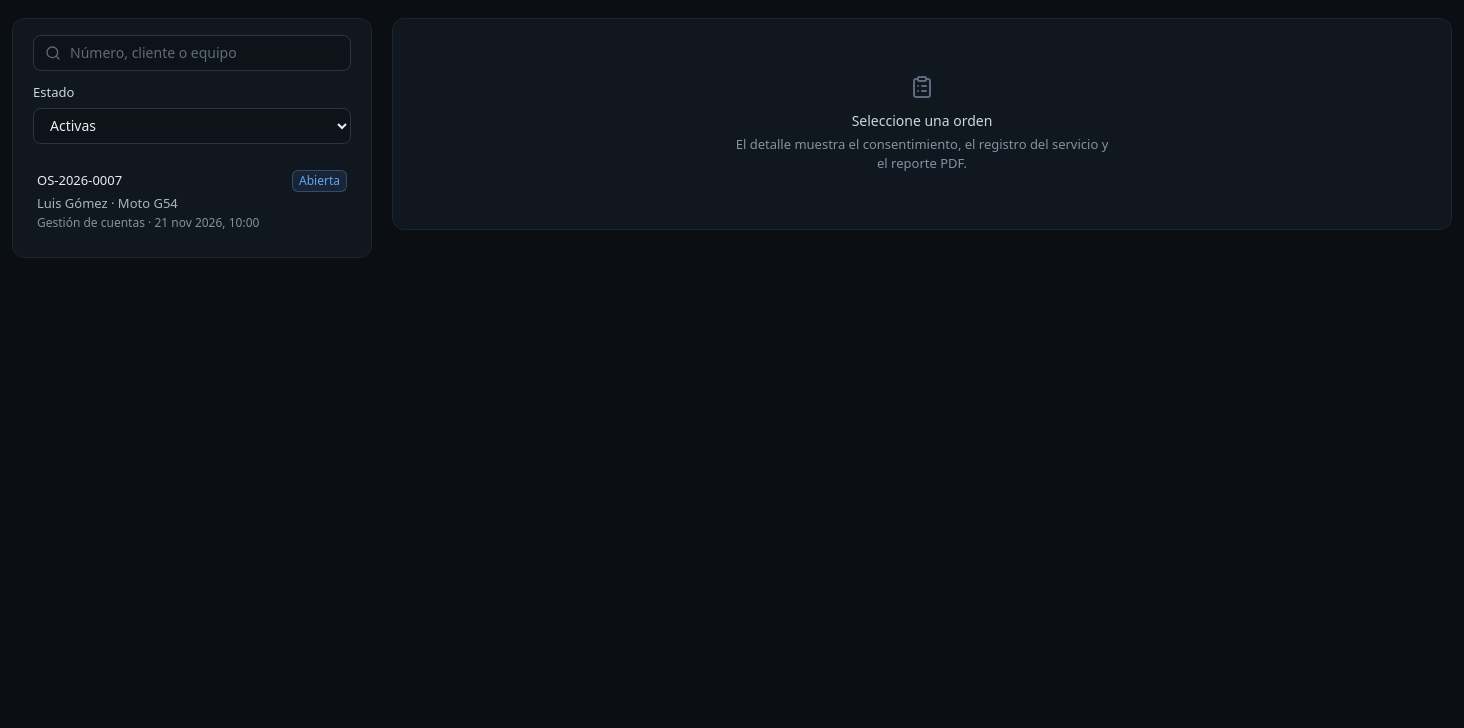
Test case: service orders › records consent only with a name and how ownership was checked
Click the button "OS-2026-0007" at (80, 180), box [25,160,359,240]
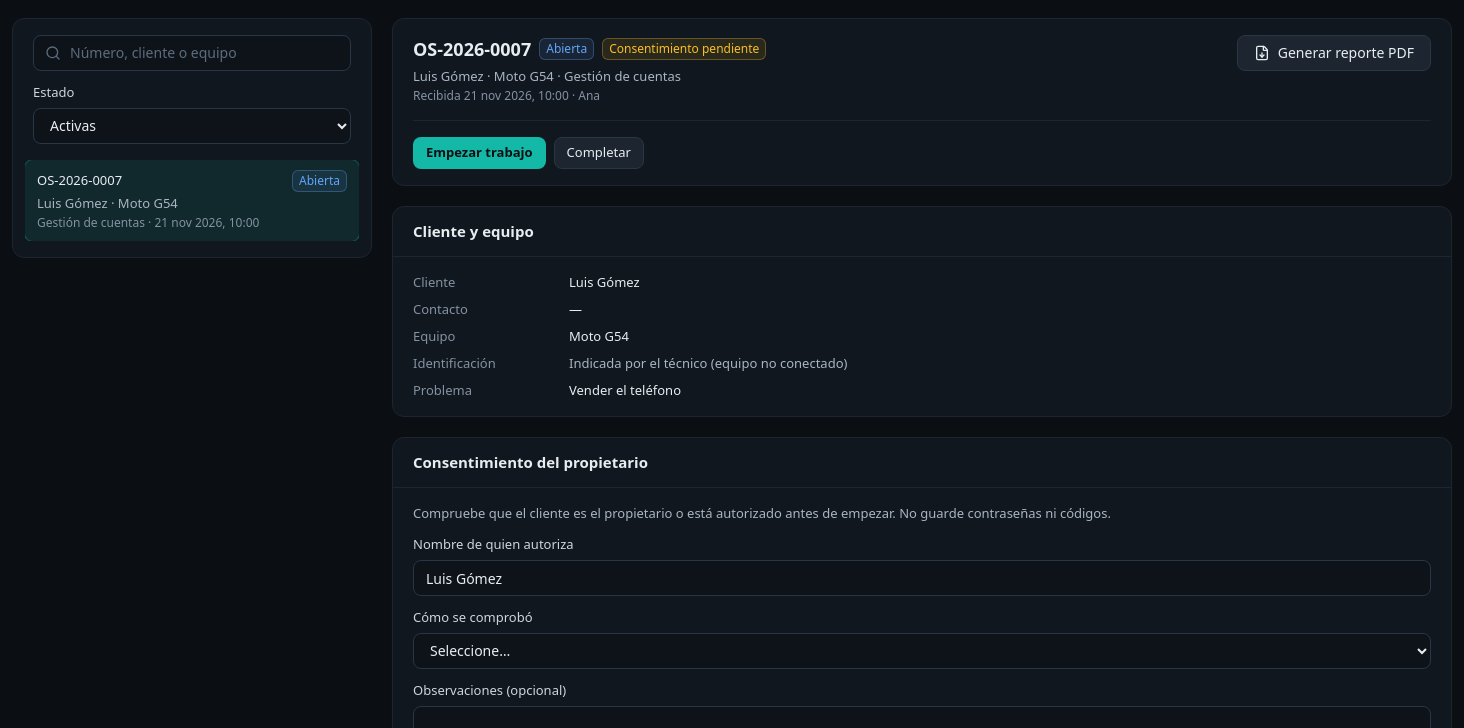
Check: the heading "OS-2026-0007" is shown, box [413,35,531,63]
Select "Propietario presente con identificación" in the dropdown labelled "Cómo se comprobó" at (922, 651), box [413,633,1431,669]
(page scrolled)
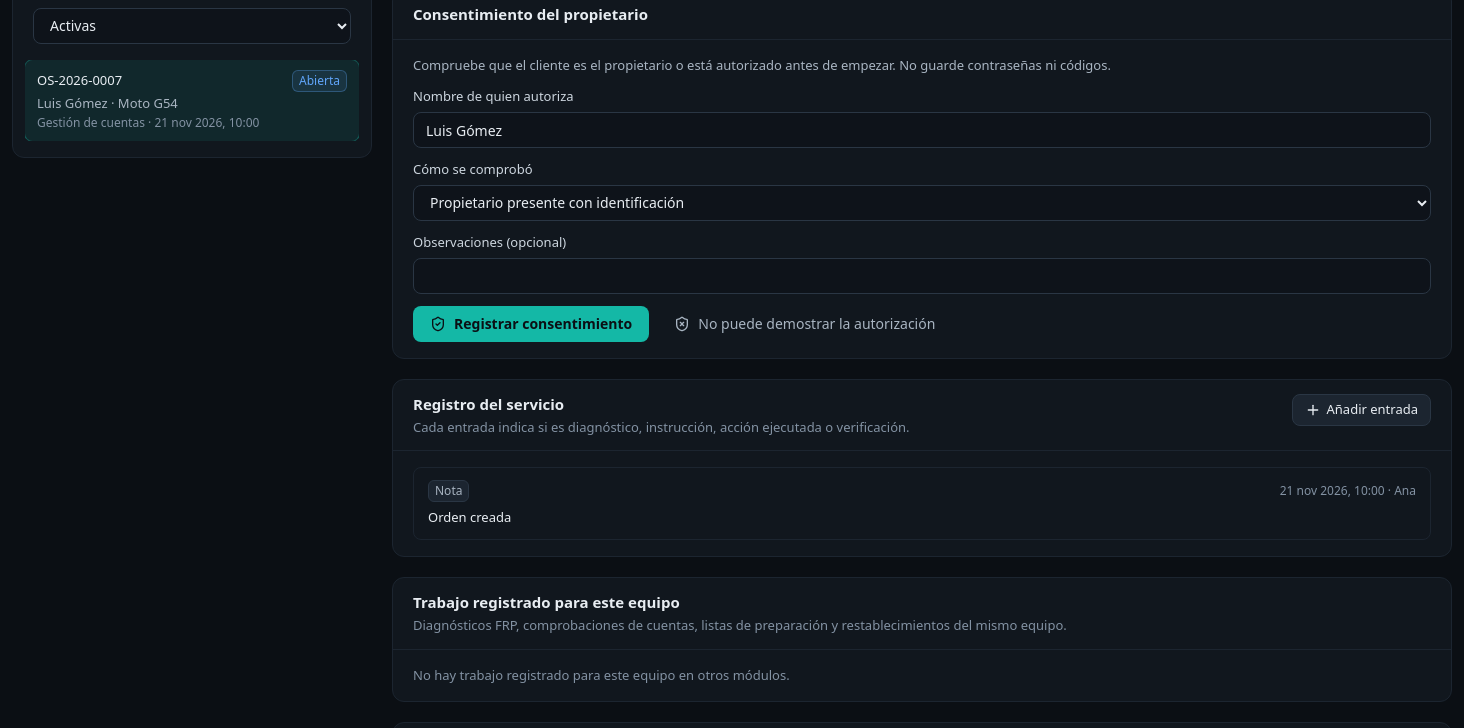
Check: the button "Registrar consentimiento" is enabled
Click the button "Registrar consentimiento" at (531, 324), box [413,306,649,342]
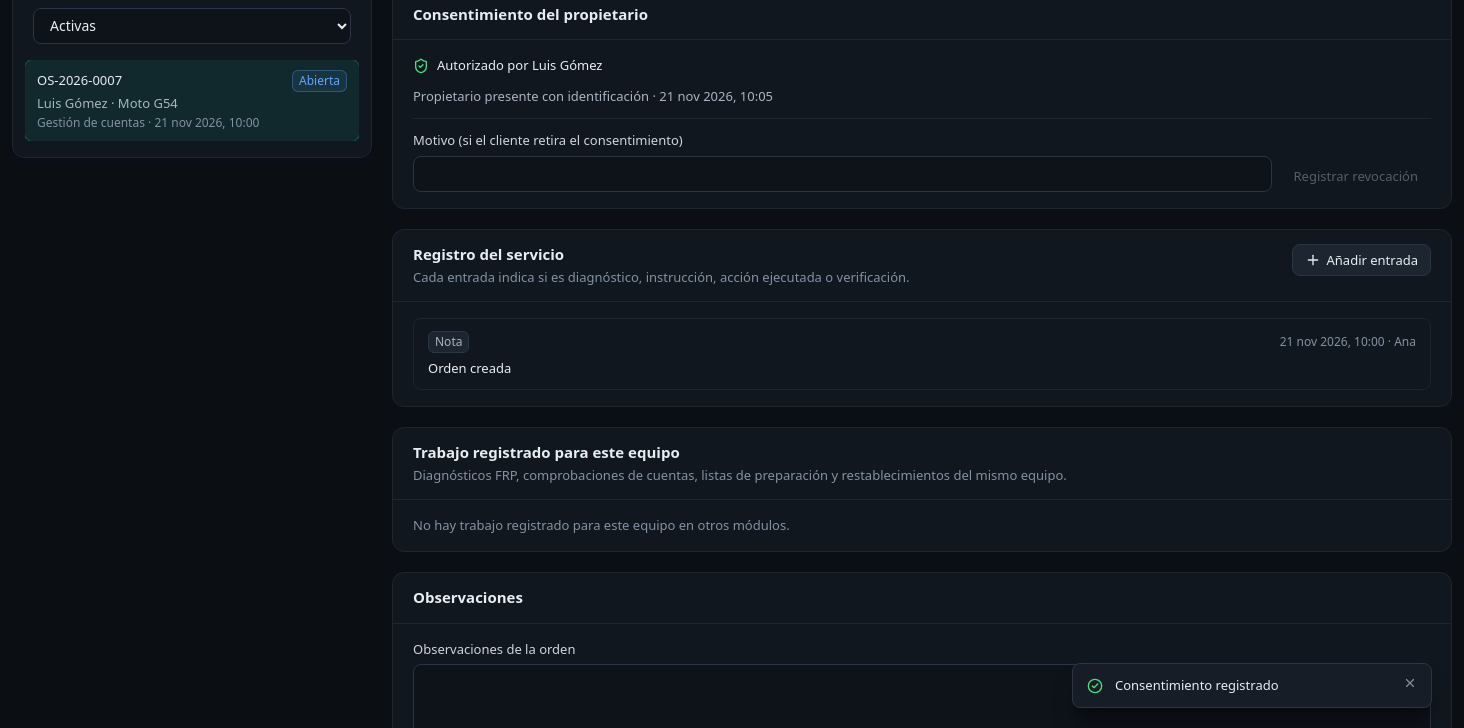
Check: the text "Autorizado por Luis Gómez" is shown, box [413,56,602,74]
